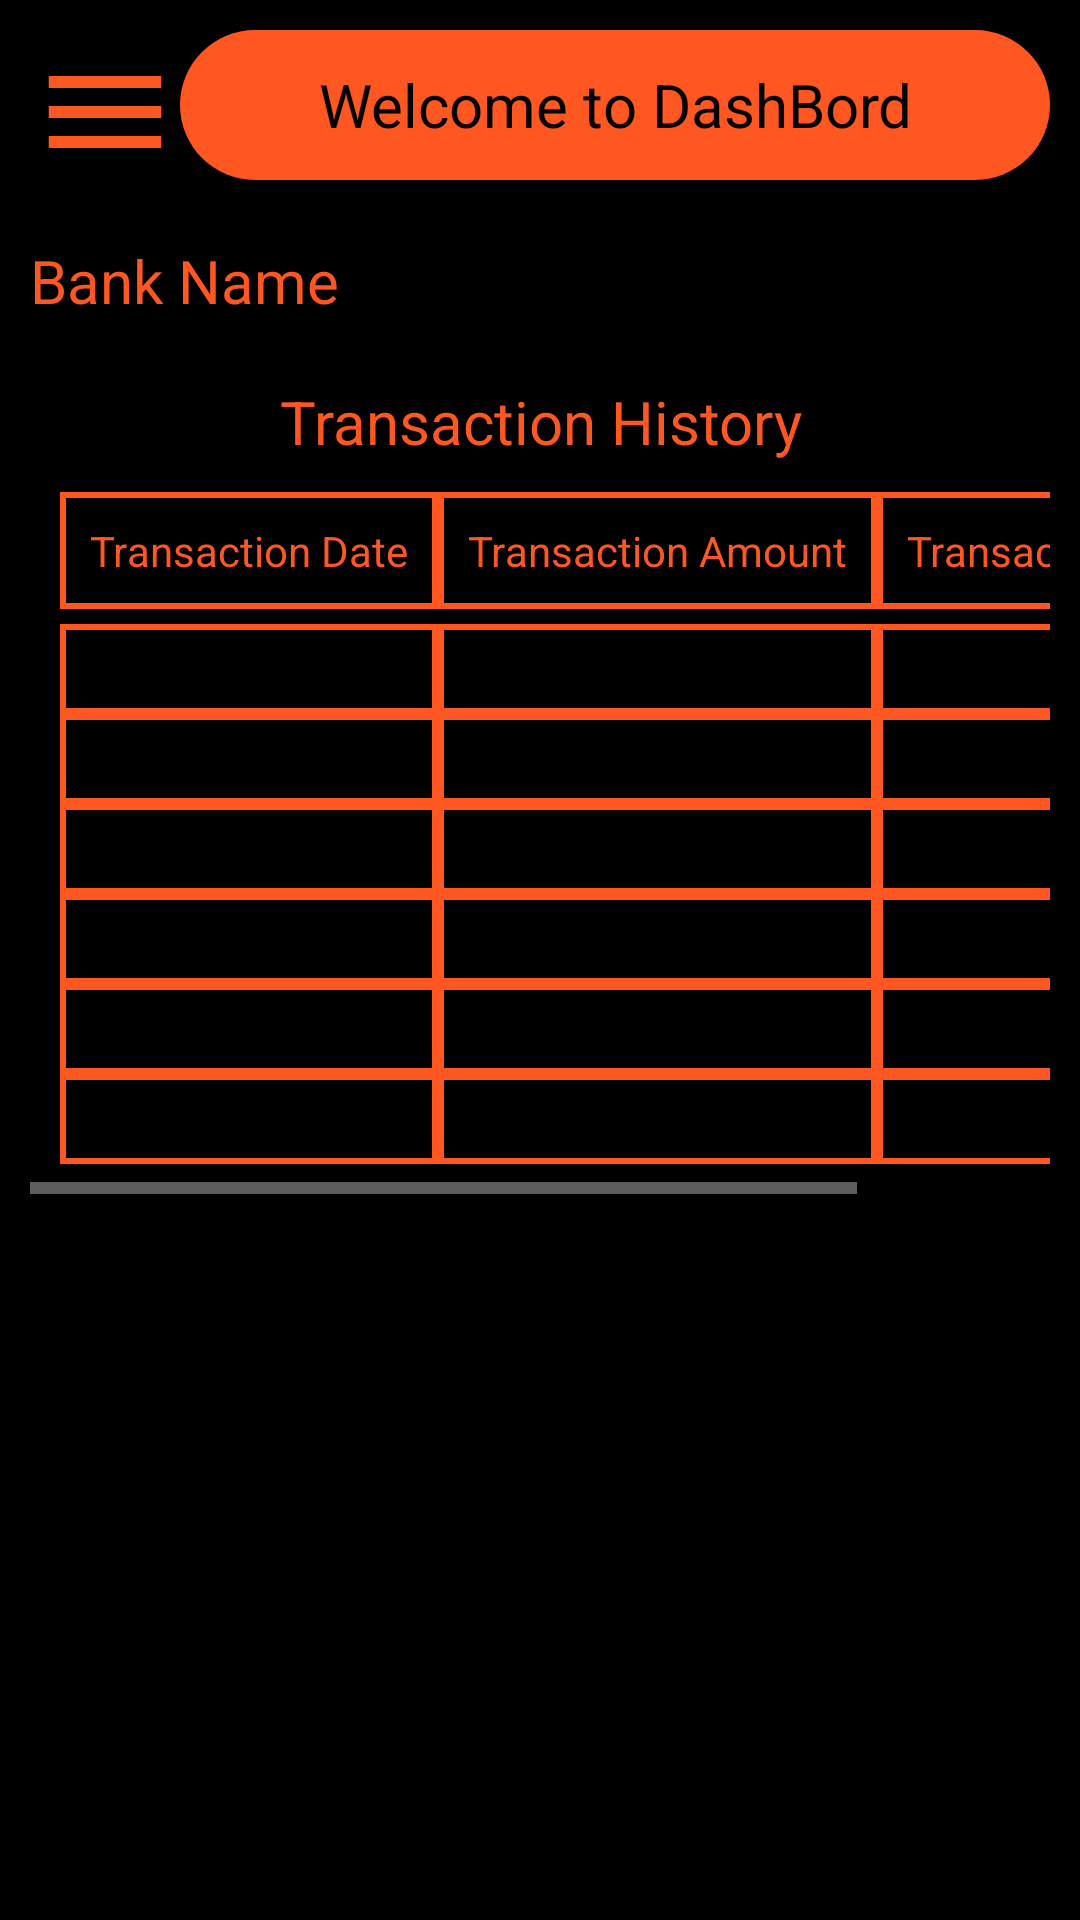

Screen size 1080*1920. Icon name, then its center in pixels as [x,y]:
menuicon: [105,112]
